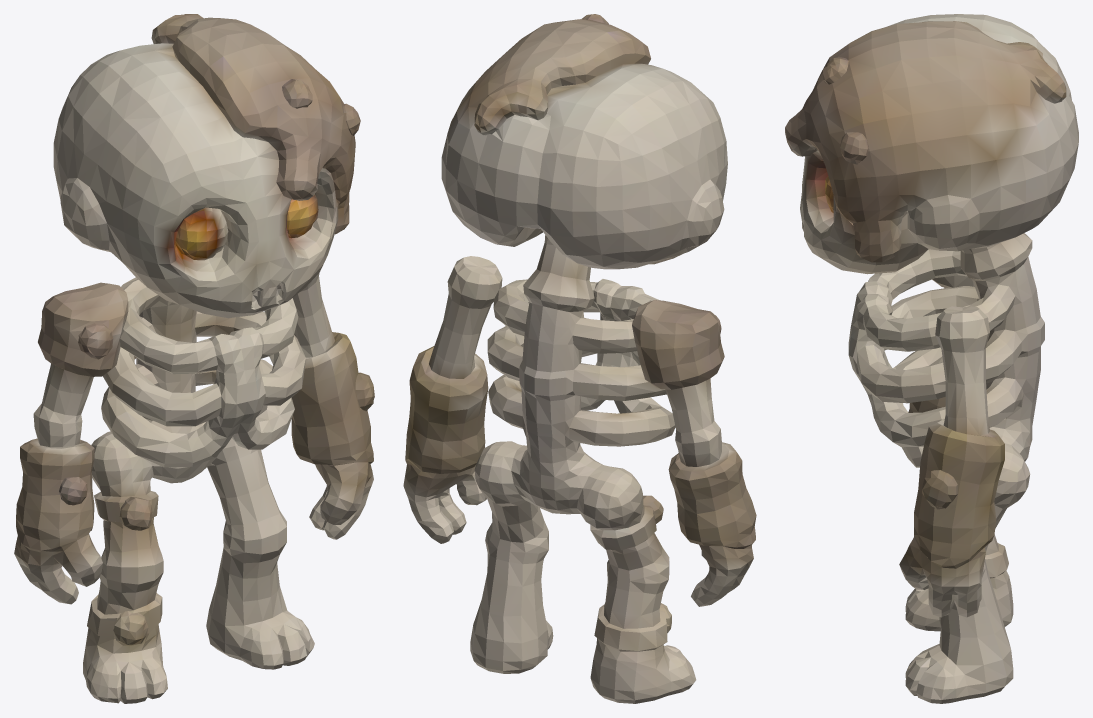
Rendered from bk_hone.glb.
The picture shows the model from 3 angles, left to right: view 1: azimuth 30°, elevation 25°; view 2: azimuth 150°, elevation 25°; view 3: azimuth 270°, elevation 25°; orthographic projection. The views are drawn at different scales.
Parts seen in each view (by area): view 1: geometry_0; view 2: geometry_0; view 3: geometry_0.
Boxes of the visible parts, x1,y1,x2,y2 form: geometry_0: [14, 14, 374, 703]; geometry_0: [403, 14, 756, 703]; geometry_0: [785, 14, 1078, 703].
Size of the model in its own units: 0.0923 by 0.1621 by 0.0679.
